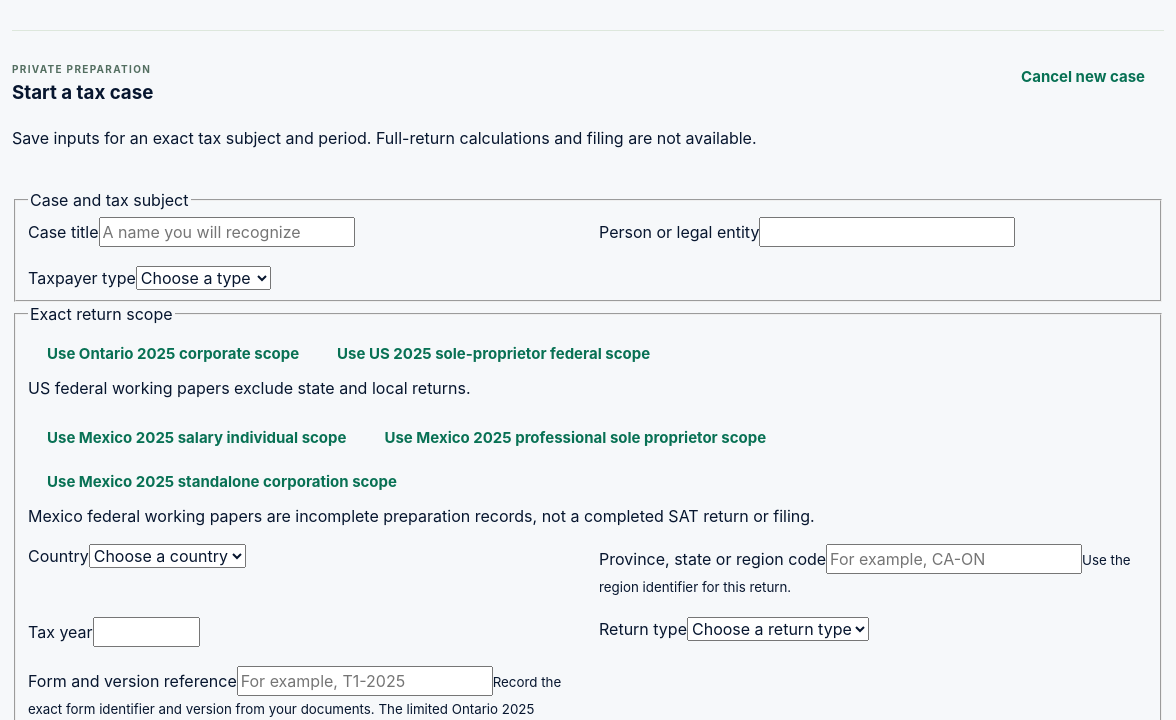
Test case: private tax working-paper boundaries › sets exact Mexico professional sole proprietor scope without inventing residency
Step 1. Click the button "Use Mexico 2025 professional sole proprietor scope" → (575, 438), box [366,416,785,460]
(page scrolled)
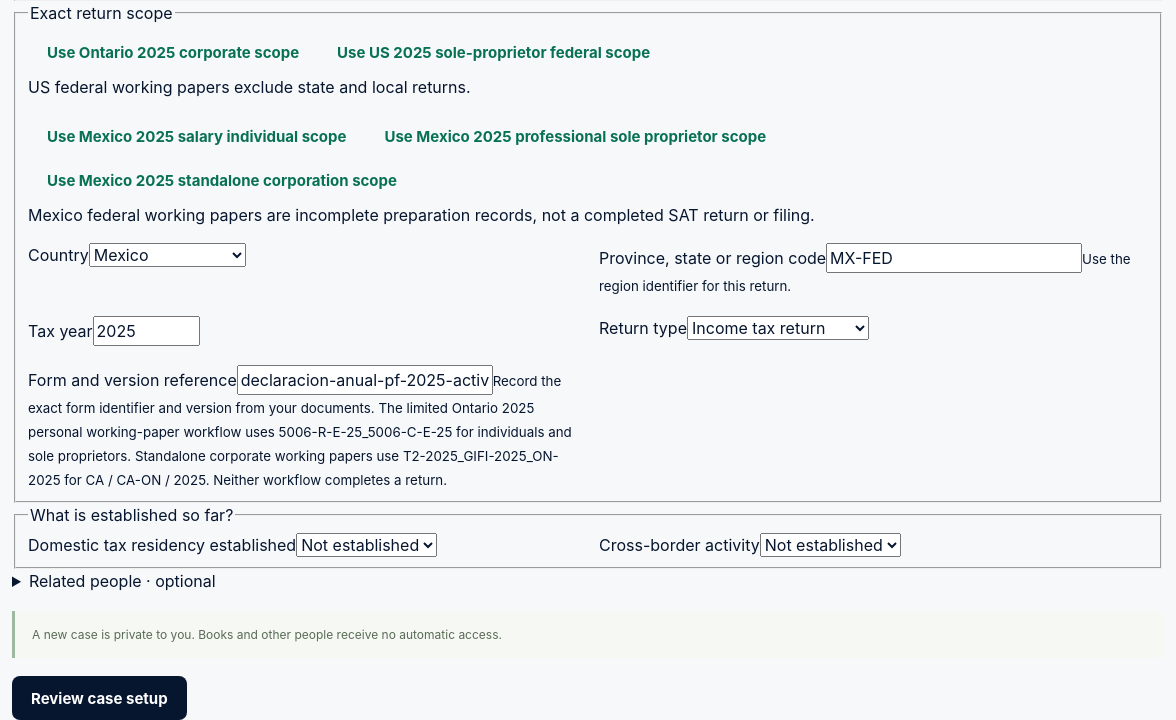
Expected: the dropdown labelled "Country" shows "Mexico", [89,243,246,267]
Expected: the field labelled "Province, state or region code" holds "MX-FED", [826,243,1082,273]
Expected: the field labelled "Form and version reference" holds "declaracion-anual-pf-2025-actividad-profesional", [237,365,493,395]
